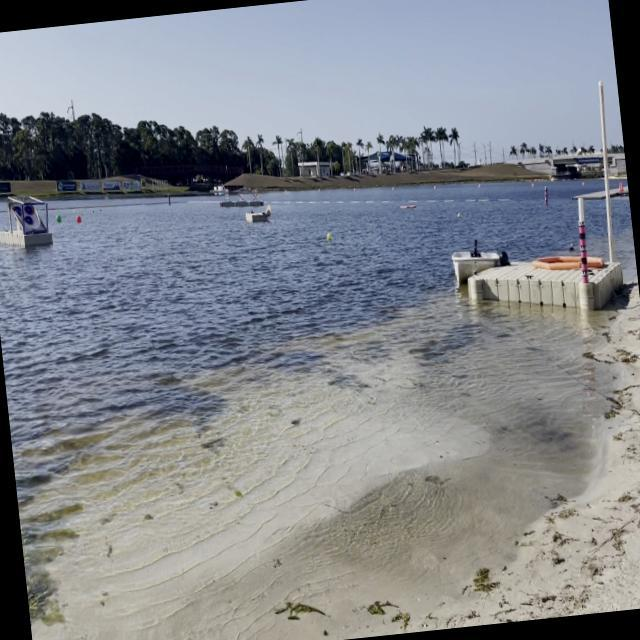buoy: (327, 230, 334, 243), (76, 214, 82, 224), (56, 214, 61, 224)
